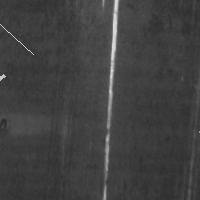scratches: (100, 1, 119, 196), (0, 6, 38, 59), (0, 70, 9, 130), (194, 126, 200, 138)
